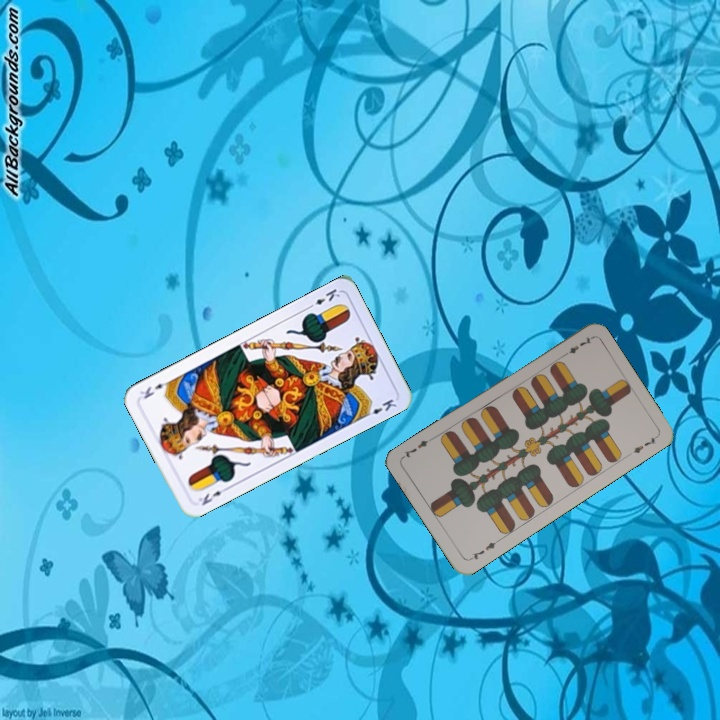E7: (465, 536, 502, 563), (558, 333, 594, 360)
EK: (303, 285, 343, 312), (194, 483, 231, 508)
